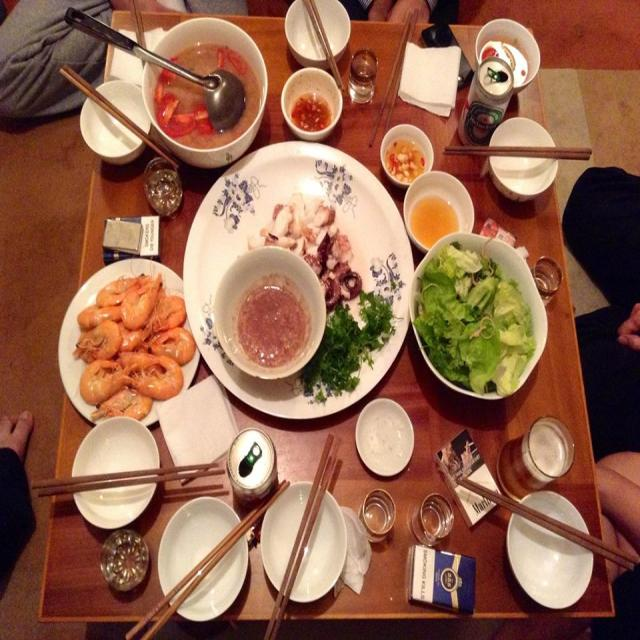bach tuoc nuong: (249, 201, 316, 255), (324, 211, 358, 310)
bia: (496, 423, 568, 494), (458, 66, 508, 152), (225, 428, 279, 502)
canh ca chua: (139, 26, 261, 156)
mam nem: (230, 273, 310, 367)
rau: (414, 241, 538, 396)
tom luoc: (66, 281, 185, 412)
